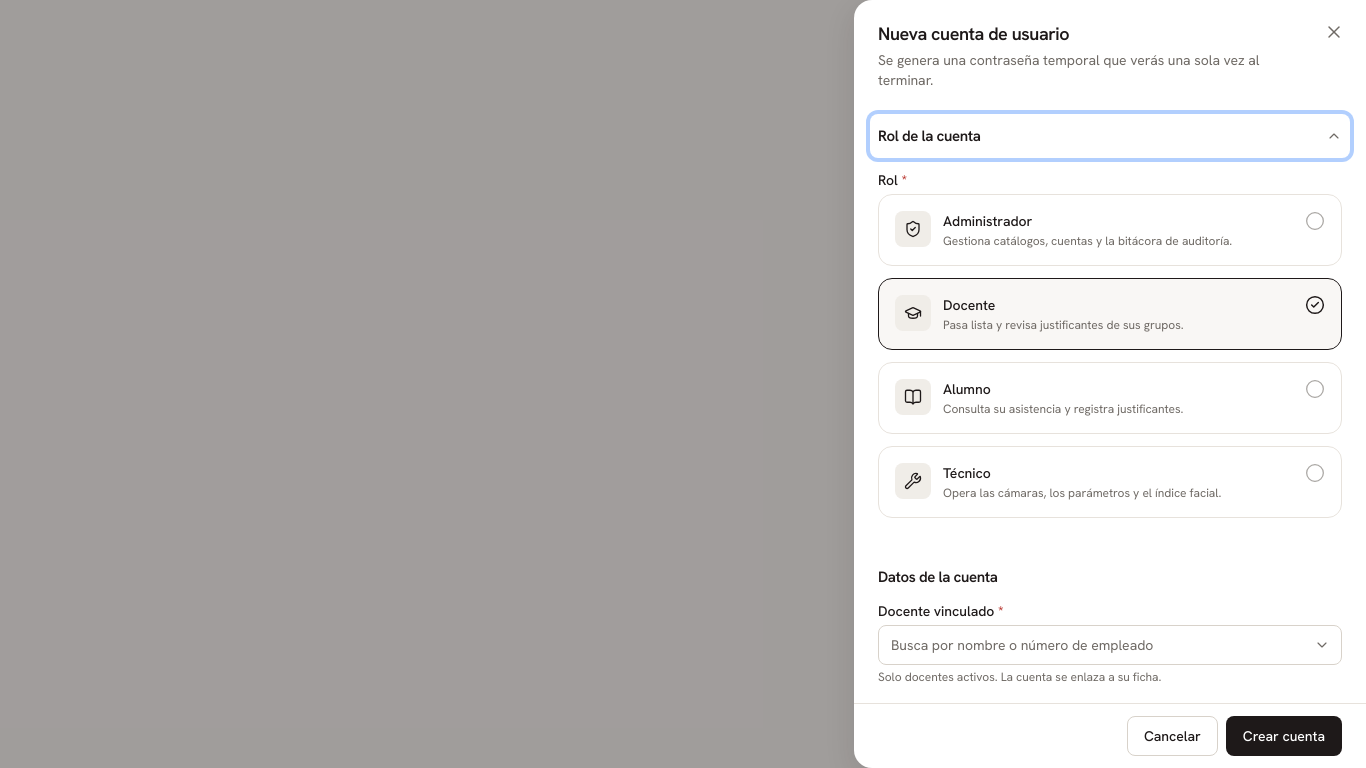
Test: CrearUsuarioDialog › sin vínculo no envía: lo dice junto al selector y enfoca el primer error
Click the button "Crear cuenta": point(1284, 736) [1226,716,1342,756]
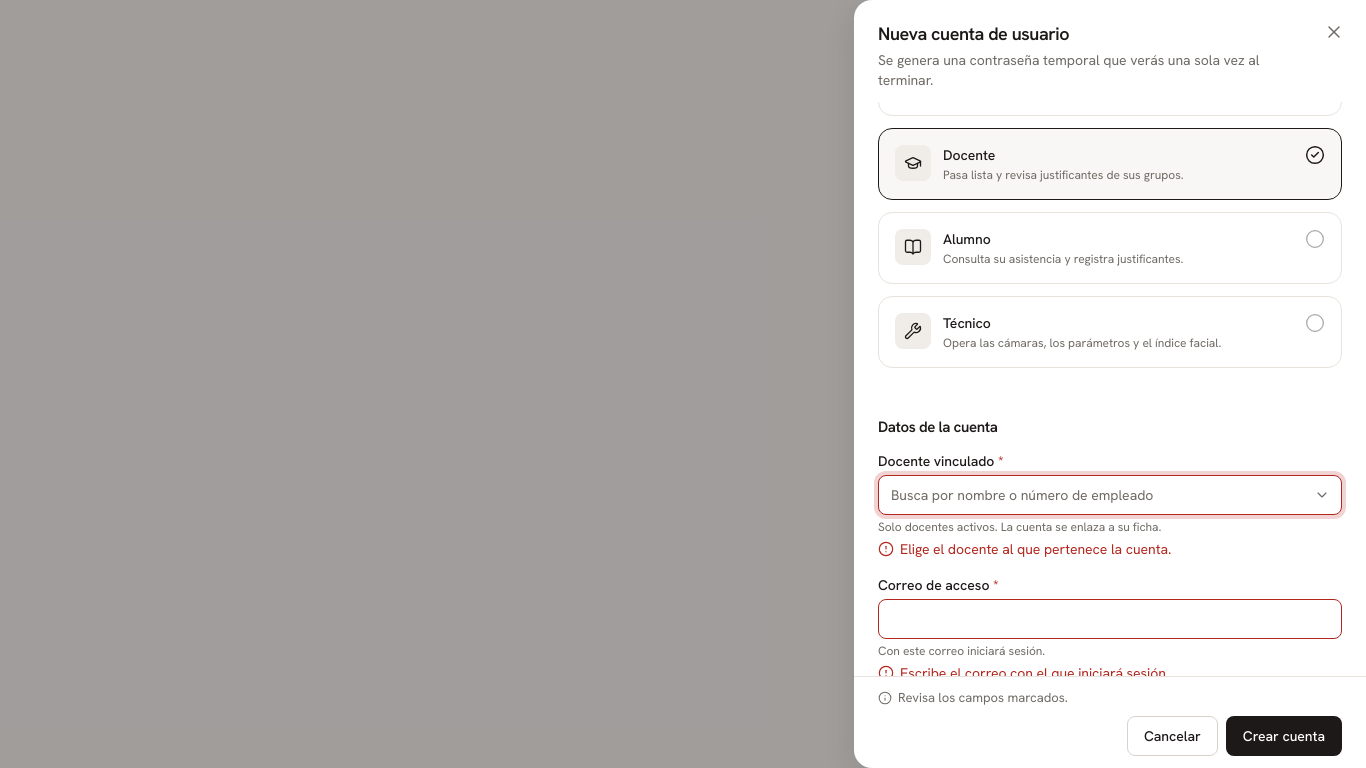
Check: the text "Elige el docente al que pertenece la cuenta." is shown, box [878,540,1171,558]
